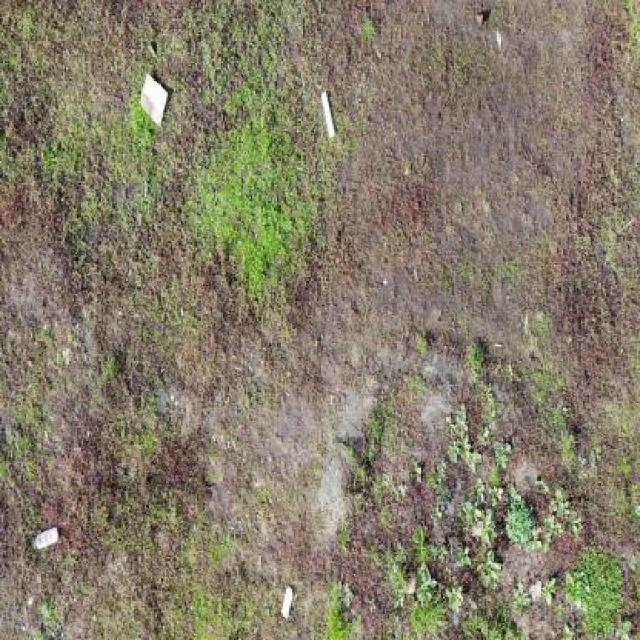Garbage: (137, 71, 169, 125), (319, 91, 336, 139), (32, 526, 58, 551), (280, 586, 296, 620)
